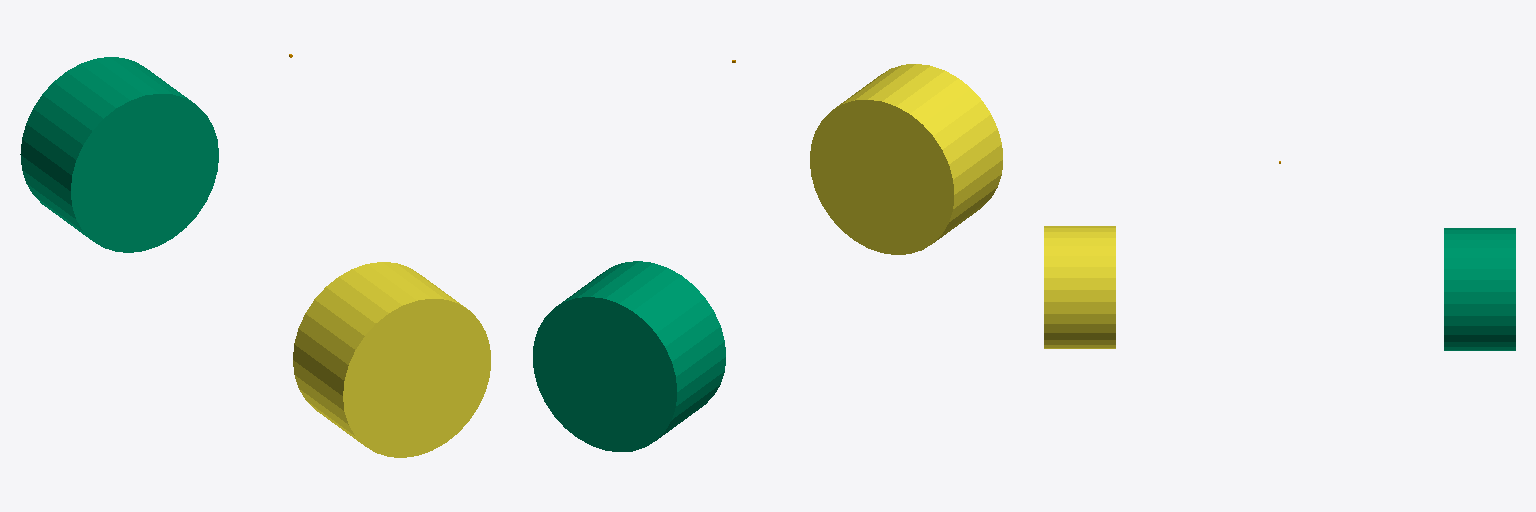
The robot description file, URDF, robot "Self_Balancing_Robot":
<?xml version="1.0" ?>
<!-- =================================================================================== -->
<!-- |    This document was autogenerated by xacro from robot3.urdf.xacro              | -->
<!-- |    EDITING THIS FILE BY HAND IS NOT RECOMMENDED                                 | -->
<!-- =================================================================================== -->
<robot name="Self_Balancing_Robot" xmlns:xacro="http://ros.org/wiki/xacro">
  <sdf version="1.4"/>
  <link name="base_footprint">
    <visual>
      <origin rpy="0 0 0" xyz="0 0 0"/>
      <geometry>
        <box size="0.001 0.001 0.001"/>
      </geometry>
    </visual>
  </link>
  <joint name="base_link_joint" type="fixed">
    <origin rpy="0 0 0" xyz="0 0 0.001"/>
    <parent link="base_footprint"/>
    <child link="Chassis"/>
  </joint>
  <link name="Chassis">
    <inertial>
      <origin rpy="0 0 0" xyz="0.0375 0 0"/>
      <mass value="0.388"/>
      <inertia ixx="0.0113" ixy="0" ixz="0" iyy=".01094" iyz="0" izz=".00971"/>
    </inertial>
    <collision>
      <geometry>
        <box size="0.075 0.175 0.157"/>
        <!-- 0.075 0.175 0.157 -->
      </geometry>
      <origin rpy="0 0 0" xyz="0 0 0"/>
    </collision>
    <visual>
      <geometry>
        <!--<box size = "0.075 0.175 0.157"/> -->
        <mesh filename="package://self_balancing_robot/meshes/Assem_No_wheel.dae" scale="0.001 0.001 0.001"/>
        <!--<mesh filename ="package://self_balancing_robot/meshes/Assem2_No_Wheel.STL"/>-->
      </geometry>
      <origin rpy="0 0 0" xyz="-0.05 -0.090 -.157"/>
    </visual>
  </link>
  <link name="Right_Wheel">
    <inertial>
      <origin rpy="0 0 0" xyz="0.0 0.0185 0"/>
      <mass value="0.03770"/>
      <inertia ixx="0.000096758" ixy="0.0" ixz="0.0" iyy="0.000068429" iyz="0.0000" izz="0.000096758"/>
    </inertial>
    <collision>
      <geometry>
        <cylinder length="0.037" radius="0.0316"/>
      </geometry>
      <origin rpy="1.5708 0 0" xyz="0 0.0150 0"/>
      <!-- Previous <origin rpy = "0 0 0" xyz = "-0.0135 0.0150 -0.0785"/> -->
      <!--
			<origin rpy = "0 0 0" xyz = "0 0.1100 0.0316"/> -->
    </collision>
    <visual>
      <geometry>
        <cylinder length="0.037" radius="0.0316"/>
      </geometry>
      <origin rpy="1.5708 0 0" xyz="0 0.0150 0"/>
      <!-- Previous <origin rpy = "0 0 0" xyz = "-0.0135 0.0150 -0.0785"/> -->
    </visual>
  </link>
  <joint name="Right_wheel_Joint" type="continuous">
    <parent link="base_footprint"/>
    <child link="Right_Wheel"/>
    <origin rpy="0 0 0.0" xyz="-0.0135 0.0875 -0.0785"/>
    <limit effort="100000" velocity="100000"/>
    <axis xyz="0 1 0"/>
  </joint>
  <link name="Left_Wheel">
    <inertial>
      <origin rpy="0 0 0" xyz="0.0 0.0185 0"/>
      <mass value="0.03770"/>
      <inertia ixx="0.000096758" ixy="0.0" ixz="0.0" iyy="0.000068429" iyz="0.0000" izz="0.000096758"/>
    </inertial>
    <collision>
      <geometry>
        <cylinder length="0.037" radius="0.0316"/>
      </geometry>
      <origin rpy="1.5708 0 0" xyz="0 -0.015 0"/>
      <!-- <origin rpy = "0 0 0" xyz = "-0.016 -0.015 -0.0785"/> -->
    </collision>
    <visual>
      <geometry>
        <cylinder length="0.037" radius="0.0316"/>
      </geometry>
      <origin rpy="1.5708 0 0" xyz="0 -0.015 0"/>
      <!-- <origin rpy = "0 0 0" xyz = "-0.016 -0.015 -0.0785"/> -->
    </visual>
  </link>
  <joint name="Left_wheel_Joint" type="continuous">
    <parent link="base_footprint"/>
    <child link="Left_Wheel"/>
    <origin rpy="0 0 0.0" xyz="-0.016 -0.0875 -0.0785"/>
    <limit effort="100000" velocity="100000"/>
    <axis xyz="0 1 0"/>
  </joint>
  <!--fdfjdsf-->
  <gazebo>
    <plugin filename="libgazebo_ros_planar_move.so" name="object_controller">
      <commandTopic>cmd_vel2</commandTopic>
      <odometryTopic>odom</odometryTopic>
      <odometryFrame>odom</odometryFrame>
      <odometryRate>20.0</odometryRate>
      <robotBaseFrame>base_footprint</robotBaseFrame>
    </plugin>
  </gazebo>
  <gazebo reference="Left_Wheel">
    <mu1>0.90</mu1>
    <mu2>0.65</mu2>
    <kp>1000</kp>
    <kd>10</kd>
    <material>Gazebo/Black</material>
  </gazebo>
  <gazebo reference="Right_Wheel">
    <mu1>0.90</mu1>
    <mu2>0.65</mu2>
    <kp>1000</kp>
    <kd>10</kd>
    <material>Gazebo/Black</material>
  </gazebo>
  <gazebo>
    <plugin filename="libgazebo_ros_diff_drive.so" name="differential_drive_controller">
      <legacyMode>false</legacyMode>
      <alwaysOn>true</alwaysOn>
      <updateRate>10</updateRate>
      <leftJoint>Left_wheel_Joint</leftJoint>
      <rightJoint>Right_wheel_Joint</rightJoint>
      <wheelSeparation>0.175</wheelSeparation>
      <wheelDiameter>0.0632</wheelDiameter>
      <torque>10</torque>
      <commandTopic>cmd_vel</commandTopic>
      <odometryTopic>odom</odometryTopic>
      <odometryFrame>odom</odometryFrame>
      <robotBaseFrame>base_footprint</robotBaseFrame>
    </plugin>
  </gazebo>
  <gazebo>
    <plugin filename="libgazebo_ros_imu.so" name="imu_plugin">
      <alwaysOn>true</alwaysOn>
      <bodyName>Chassis</bodyName>
      <topicName>imu</topicName>
      <serviceName>imu_service</serviceName>
      <gaussianNoise>0.0</gaussianNoise>
      <rpyOffsets>0 0 0</rpyOffsets>
      <accelDrift>0.5 0.5 0.5</accelDrift>
      <accelGaussianNoise>0.35 0.35 0.3</accelGaussianNoise>
      <rateDrift>0.0 0.0 0.0</rateDrift>
      <rateGaussianNoise>0.00 0.00 0.00</rateGaussianNoise>
      <headingDrift>0.0</headingDrift>
      <headingGaussianNoise>0.00</headingGaussianNoise>
      <updateRate>00</updateRate>
    </plugin>
  </gazebo>
  <!--<gazebo>
		<plugin name="quadrotor_imu_sim" filename="libhector_gazebo_ros_imu.so">
        <alwaysOn>true</alwaysOn>
        <updateRate>100.0</updateRate>
        <bodyName>base_footprint</bodyName>
        <frameId>ardrone_base_link</frameId>
        <topicName>/ardrone/imu</topicName>
        <rpyOffsets>0 0 0</rpyOffsets> 
        <gaussianNoise>0</gaussianNoise> 
        <accelDrift>0.5 0.5 0.5</accelDrift>
        <accelGaussianNoise>0.35 0.35 0.3</accelGaussianNoise>
        <rateDrift>0.0 0.0 0.0</rateDrift>
        <rateGaussianNoise>0.00 0.00 0.00</rateGaussianNoise>
        <headingDrift>0.0</headingDrift>
        <headingGaussianNoise>0.00</headingGaussianNoise>
      </plugin>
  </gazebo> -->
</robot>

--- Render facts (derived) ---
Views: 3 orthographic renders of the robot side by side, from view 1: azimuth 30°, elevation 25°; view 2: azimuth 150°, elevation 25°; view 3: azimuth 270°, elevation 25°.
Robot: Self_Balancing_Robot — 4 links, 3 joints (2 continuous, 1 fixed); root link base_footprint; default pose: all joints at 0.
Visible links, largest first — view 1: Left_Wheel, Right_Wheel; view 2: Right_Wheel, Left_Wheel; view 3: Right_Wheel, Left_Wheel.
Link boxes in pixels (x1,y1,x2,y2): Left_Wheel: [293, 262, 490, 457]; Right_Wheel: [20, 57, 218, 252]; Right_Wheel: [533, 261, 725, 451]; Left_Wheel: [810, 64, 1002, 254]; Right_Wheel: [1444, 228, 1515, 350]; Left_Wheel: [1044, 226, 1115, 348].
Size in the robot's own frame: 0.0657 by 0.242 by 0.1106 metres.
Meshes: 1 distinct files referenced, 0 mesh visuals loaded (none loaded); not drawn: 1 (reference not matched to a file when rendering).
